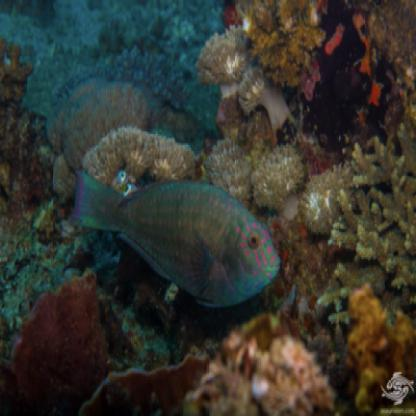Scaridae -Parrotfishes-: (73, 160, 284, 316)
